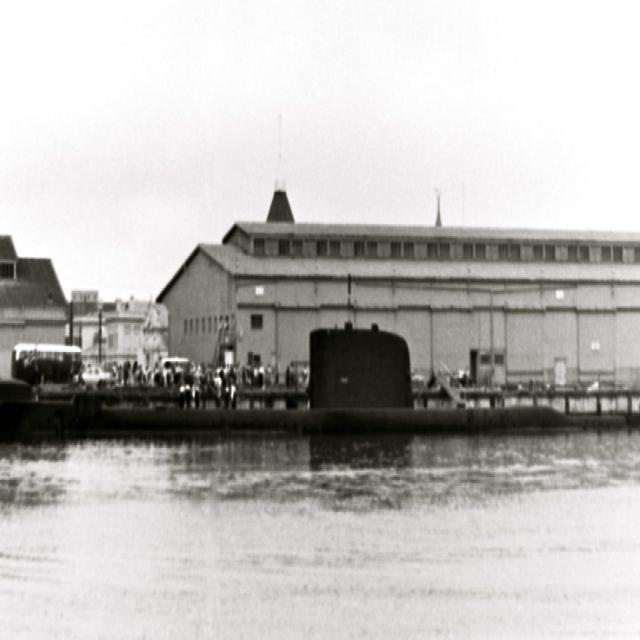submarine: (1, 329, 627, 429)
